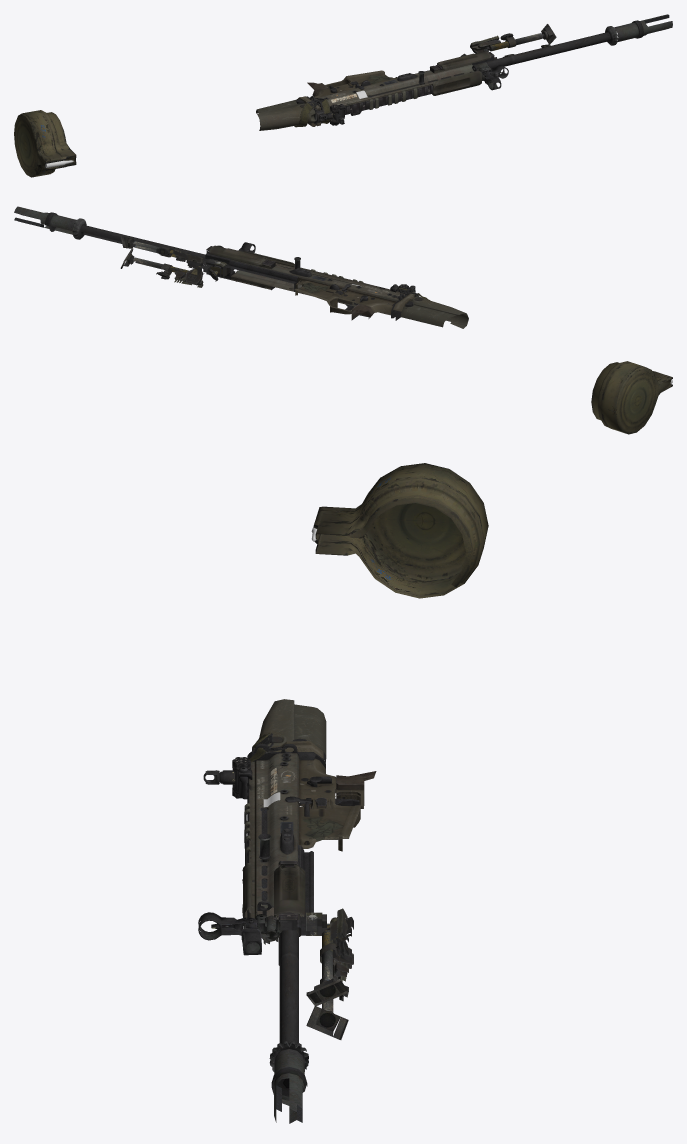
Rendered from t6_wpn_lmg_hamr_view_LOD0.obj.
3 renders of one model, top to bottom at view 1: azimuth 30°, elevation 25°; view 2: azimuth 150°, elevation 25°; view 3: azimuth 270°, elevation 25°, orthographic. The views are drawn at different scales.
Visible parts, largest first — view 1: mtl_t6_wpn_lmg_hamr_parts, mtl_t6_wpn_lmg_hamr_camo1, mtl_t6_wpn_lmg_hamr_camo2, mtl_t6_wpn_lmg_hamr_camo3, mtl_t6_wpn_lmg_hamr_camo4, mtl_t6_wpn_lmg_hamr_strap; view 2: mtl_t6_wpn_lmg_hamr_parts, mtl_t6_wpn_lmg_hamr_camo1, mtl_t6_wpn_lmg_hamr_camo2, mtl_t6_wpn_lmg_hamr_camo3, mtl_t6_wpn_lmg_hamr_camo4; view 3: mtl_t6_wpn_lmg_hamr_parts, mtl_t6_wpn_lmg_hamr_camo1, mtl_t6_wpn_lmg_hamr_camo2, mtl_t6_wpn_lmg_hamr_camo3, mtl_t6_wpn_lmg_hamr_camo4.
Boxes of the visible parts, <box> form: mtl_t6_wpn_lmg_hamr_parts: <box>14,24,556,177</box>; mtl_t6_wpn_lmg_hamr_camo1: <box>256,20,643,125</box>; mtl_t6_wpn_lmg_hamr_camo2: <box>257,52,494,130</box>; mtl_t6_wpn_lmg_hamr_camo3: <box>296,51,494,120</box>; mtl_t6_wpn_lmg_hamr_camo4: <box>327,14,672,120</box>; mtl_t6_wpn_lmg_hamr_strap: <box>294,99,330,127</box>; mtl_t6_wpn_lmg_hamr_parts: <box>120,236,672,434</box>; mtl_t6_wpn_lmg_hamr_camo1: <box>44,212,457,327</box>; mtl_t6_wpn_lmg_hamr_camo2: <box>206,246,468,328</box>; mtl_t6_wpn_lmg_hamr_camo3: <box>203,245,422,307</box>; mtl_t6_wpn_lmg_hamr_camo4: <box>14,206,411,291</box>; mtl_t6_wpn_lmg_hamr_parts: <box>244,463,488,1039</box>; mtl_t6_wpn_lmg_hamr_camo1: <box>198,704,376,1096</box>; mtl_t6_wpn_lmg_hamr_camo2: <box>242,699,331,939</box>; mtl_t6_wpn_lmg_hamr_camo3: <box>234,736,326,965</box>; mtl_t6_wpn_lmg_hamr_camo4: <box>221,770,304,1123</box>.
Bounding box in the file's own units: 162 × 14.84 × 33.
